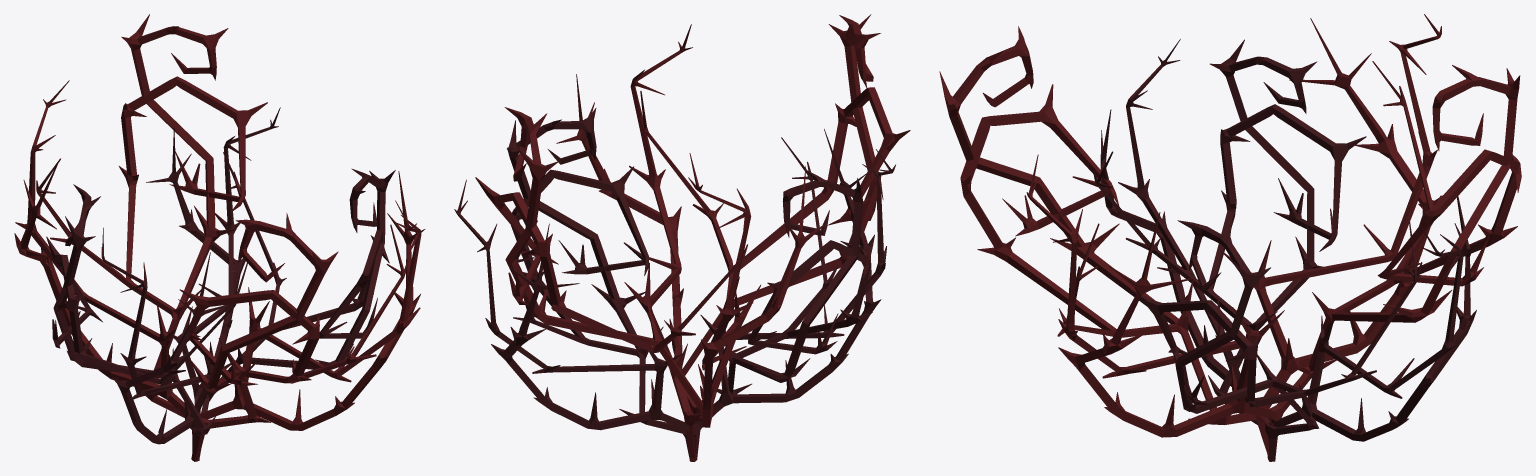
The model's file is bramble.gltf.
The picture shows the model from 3 angles, left to right: view 1: azimuth 30°, elevation 25°; view 2: azimuth 150°, elevation 25°; view 3: azimuth 270°, elevation 25°; orthographic projection. The views are drawn at different scales.
Visible parts, largest first — view 1: Cube.002; view 2: Cube.002; view 3: Cube.002.
Part boxes in pixels (x1,y1,x2,y2): Cube.002: [14, 14, 425, 461]; Cube.002: [454, 14, 910, 461]; Cube.002: [939, 14, 1521, 461].
Bounding box in the file's own units: 0.0612 × 0.0643 × 0.0789.
